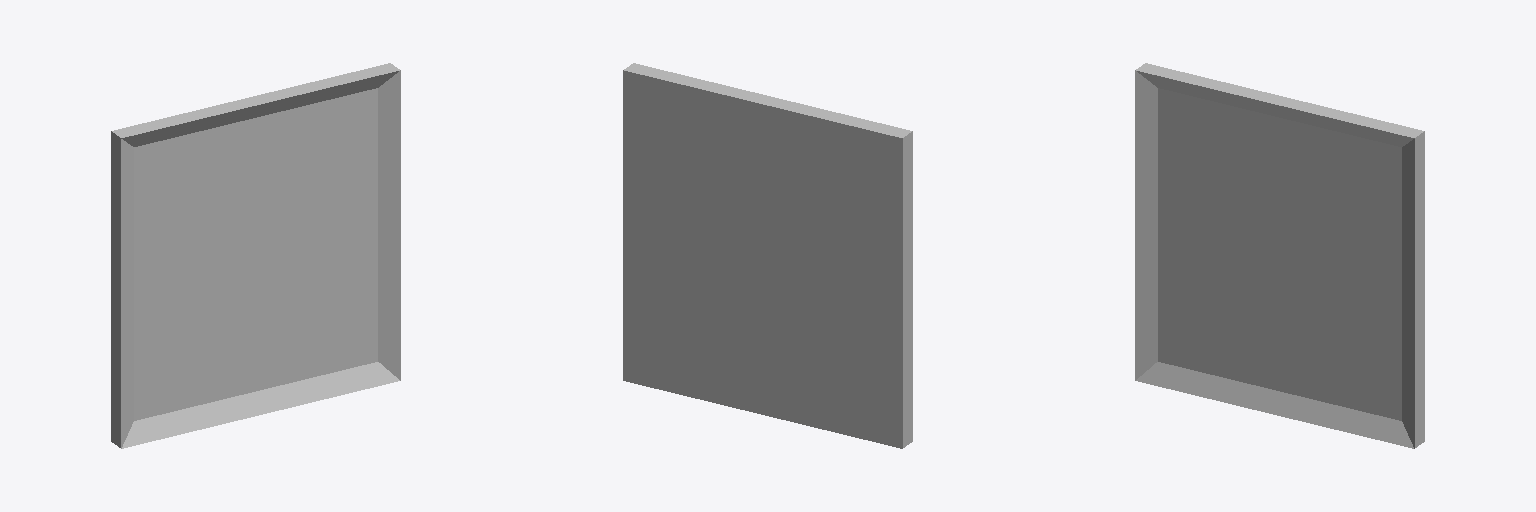
Rendered from oldpainting.obj.
3 views of the same model, side by side, from view 1: azimuth 30°, elevation 25°; view 2: azimuth 150°, elevation 25°; view 3: azimuth 330°, elevation 25° (orthographic).
Visible parts, largest first — view 1: br_nimrod4; view 2: br_nimrod4; view 3: br_nimrod4.
Boxes of the visible parts, x1,y1,x2,y2 form: br_nimrod4: [111, 63, 400, 448]; br_nimrod4: [623, 63, 912, 448]; br_nimrod4: [1135, 63, 1424, 448].
Size of the model in its own units: 16 by 17 by 1.